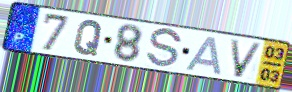7: (41, 11, 70, 53)
8: (110, 23, 145, 64)
A: (183, 35, 224, 77)
Q: (72, 19, 105, 58)
S: (144, 27, 184, 70)
V: (228, 37, 265, 80)
